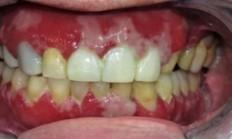Gingivitis: (27, 16, 80, 52), (13, 96, 62, 120), (158, 95, 202, 120), (131, 12, 165, 36), (73, 93, 104, 117), (170, 13, 191, 48), (94, 14, 118, 32), (130, 101, 152, 117), (98, 39, 116, 55)
